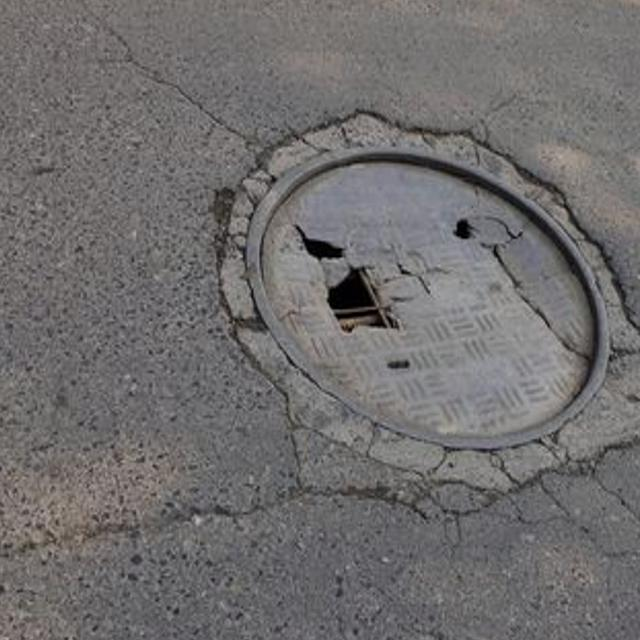broke: (212, 104, 640, 509)
